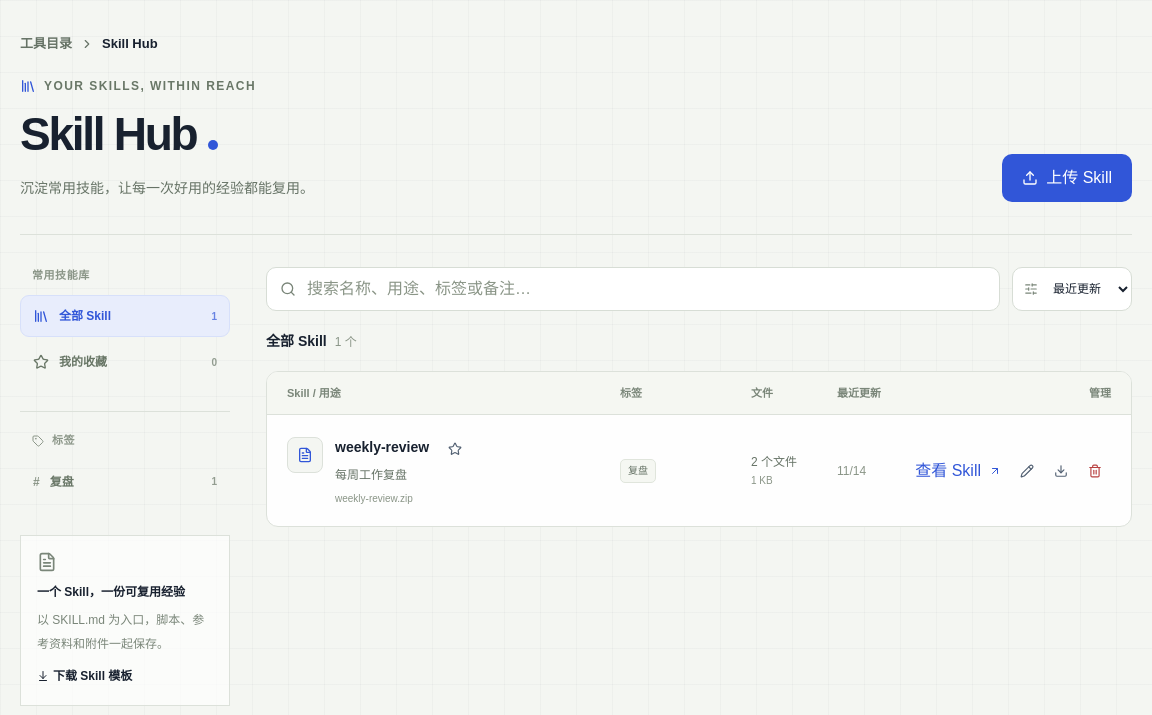
Test: Skill Hub interactions › edits searchable metadata and deduplicates comma-separated tags
The width and height of the screenshot is (1152, 715).
Click the button named "编辑 weekly-review" at (1027, 471), box x1=1011 y1=455 x2=1043 y2=487
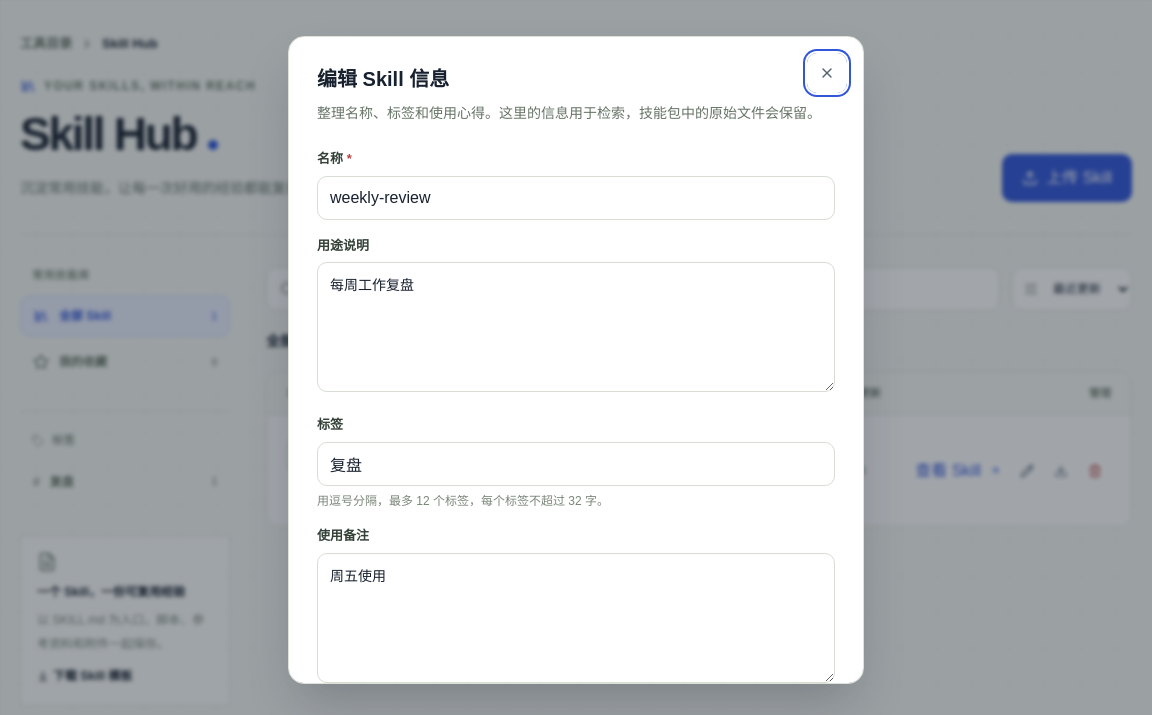
Replace the text in the field labelled "标签" with "复盘, 工作, 复盘" at (576, 464), box x1=317 y1=442 x2=835 y2=486
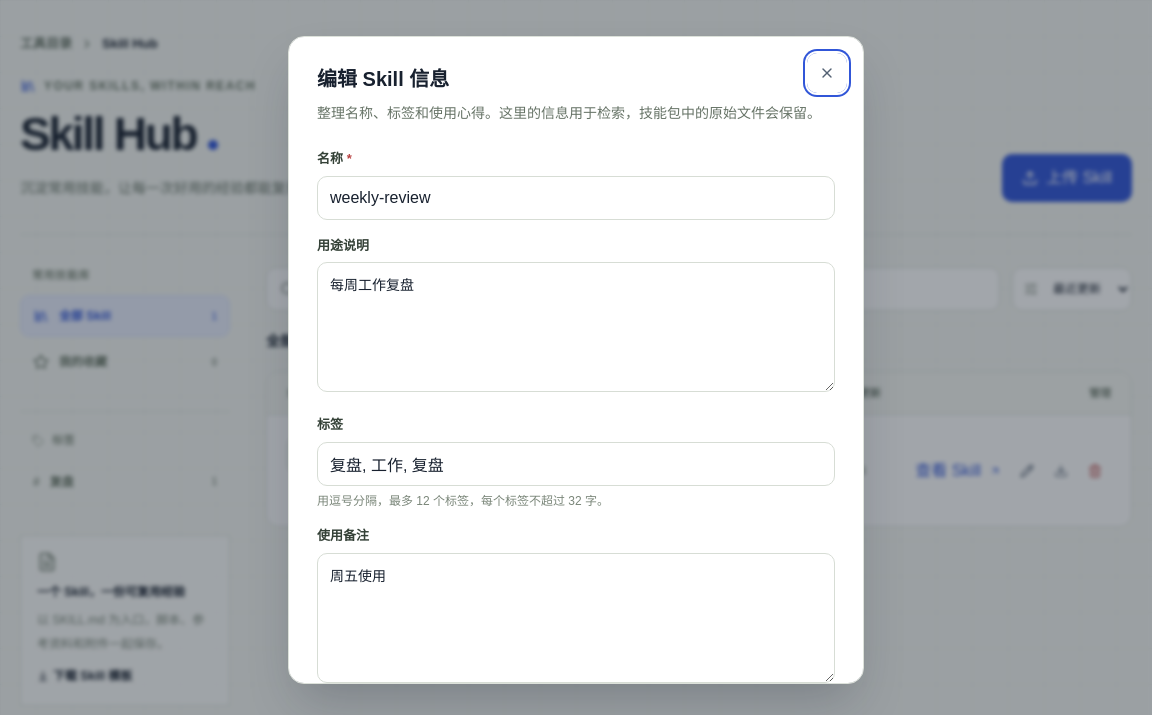
Replace the text in the text box labelled "使用备注" with "每周一使用" at (576, 618), box x1=317 y1=553 x2=835 y2=683
(page scrolled)
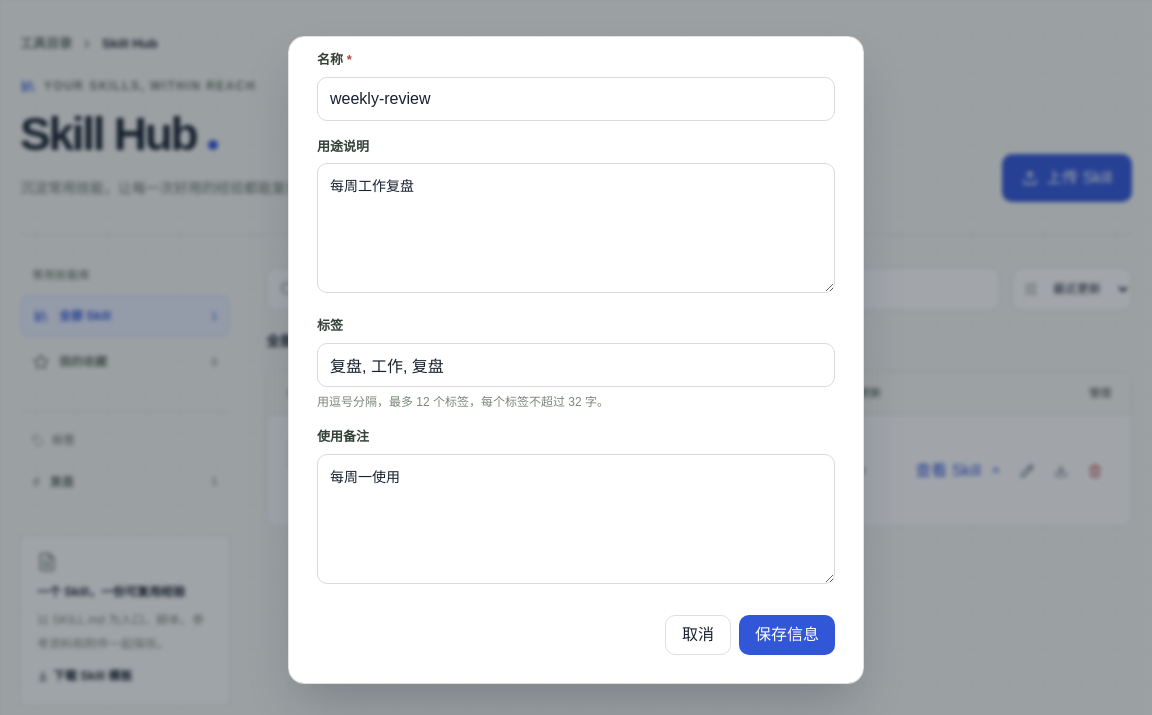
Click the button "保存信息" at (787, 635), box x1=739 y1=615 x2=835 y2=655
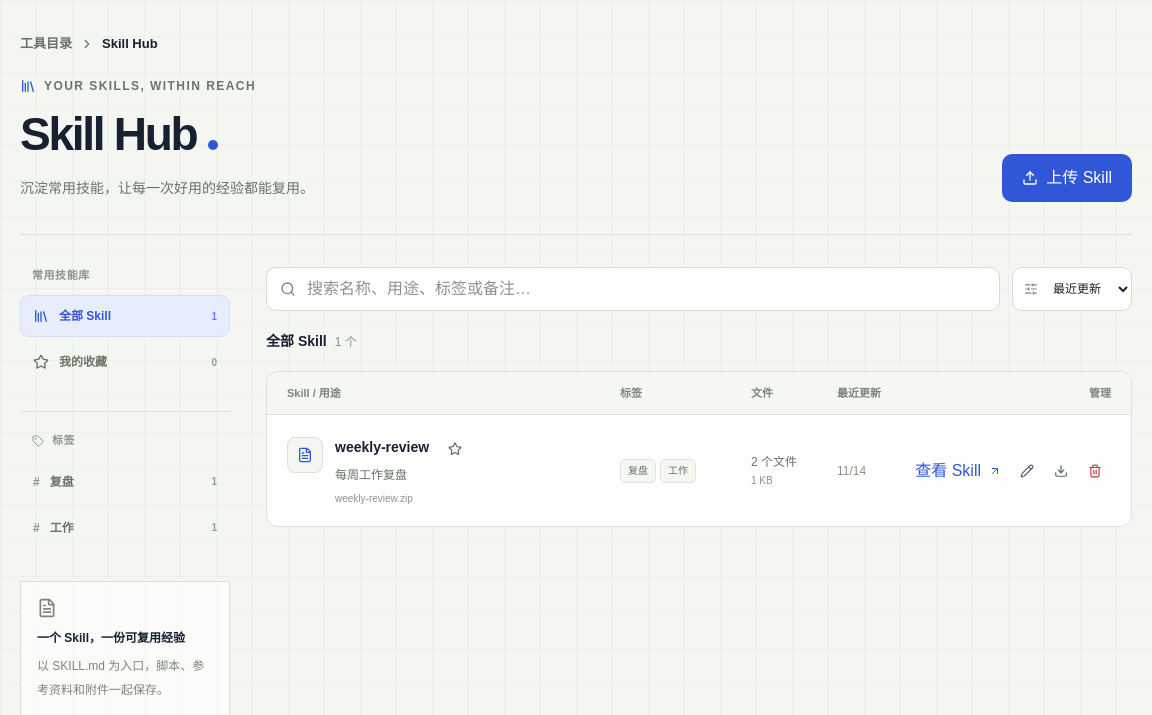
Result: the dialog is gone
